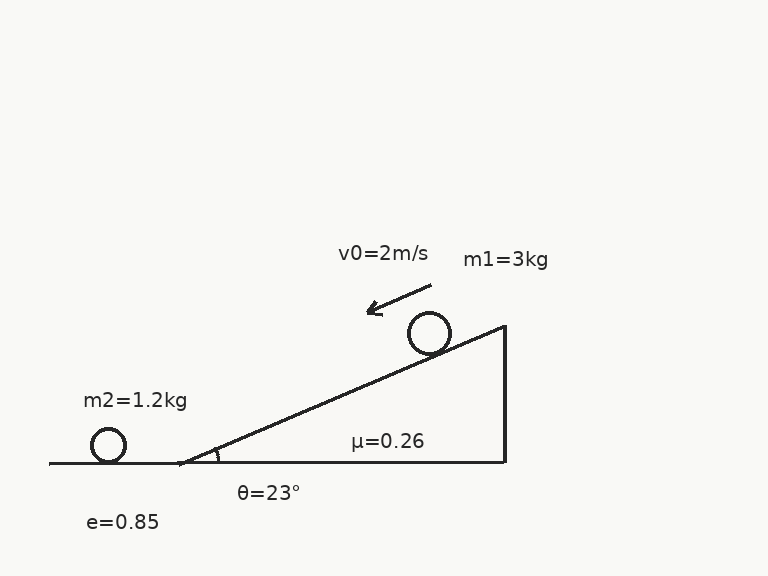ball: (405, 309, 453, 357), (88, 425, 128, 465)
ramp: (176, 323, 506, 465)
